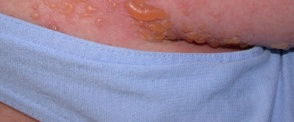SJS-TEN: (0, 0, 294, 66)
